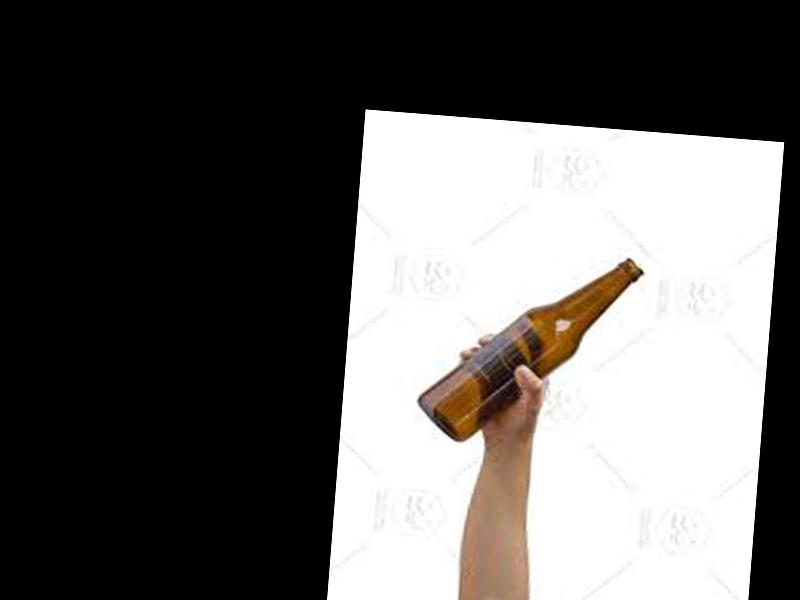Beer: (413, 243, 643, 455)
